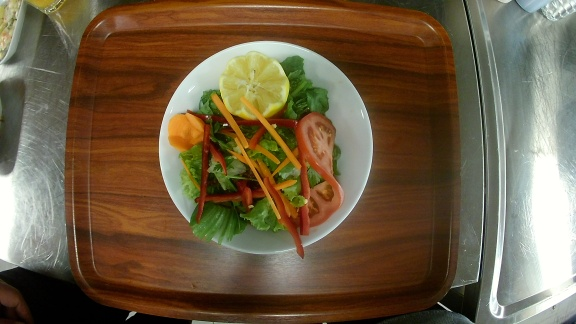salata: (157, 41, 373, 254)
